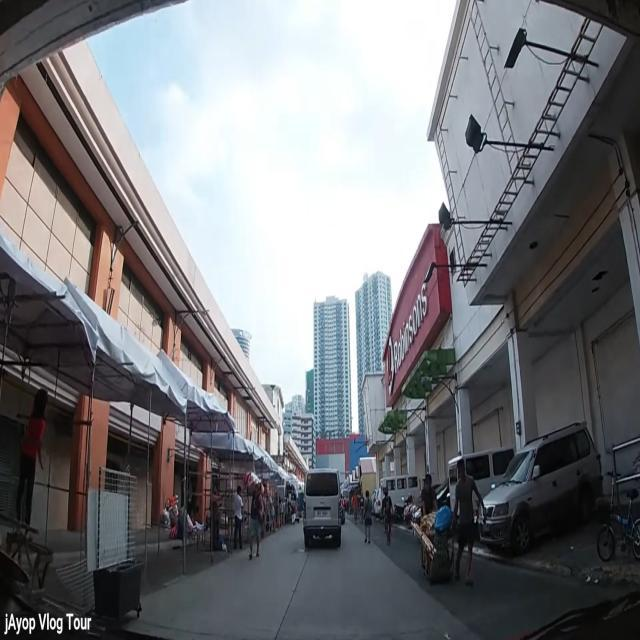bike: (600, 468, 640, 562), (382, 486, 395, 547), (352, 488, 359, 526)
car: (478, 422, 602, 557), (302, 467, 342, 549)
motorcycle: (394, 492, 414, 524)
truck: (450, 446, 514, 521), (381, 472, 426, 520)
